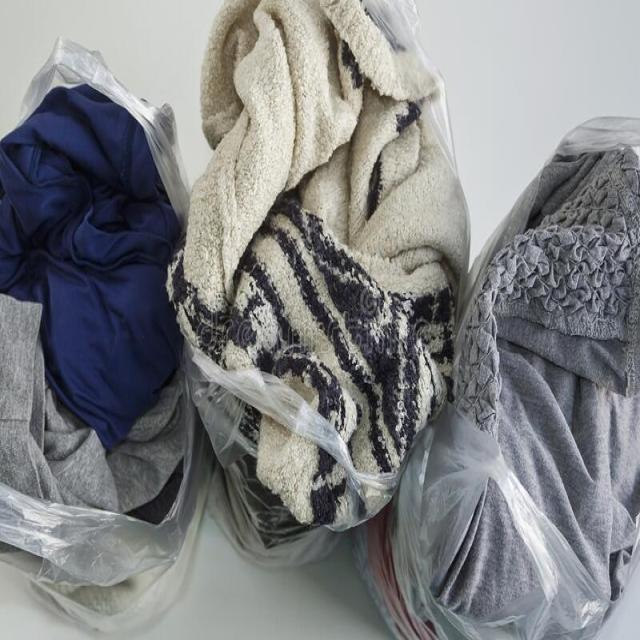clothes: (216, 14, 438, 420)
